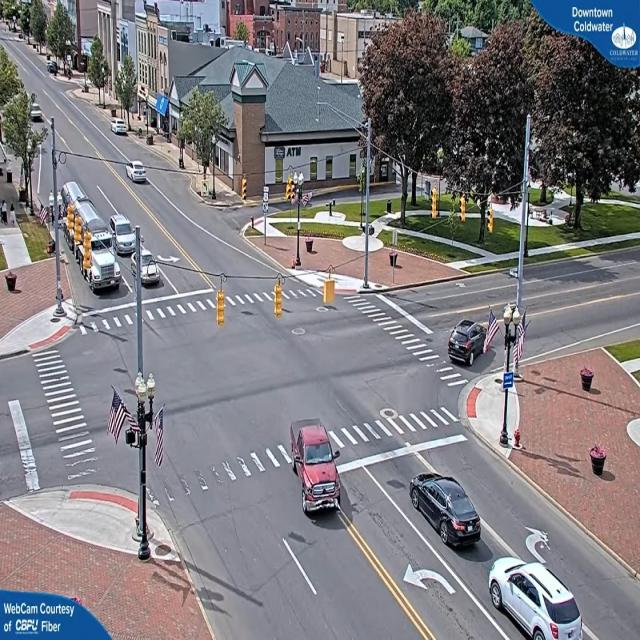car: (490, 561, 588, 640), (409, 476, 482, 551), (448, 320, 490, 366), (110, 216, 141, 256), (142, 256, 162, 286), (126, 163, 150, 184), (112, 120, 129, 136)
truck: (292, 420, 341, 513), (83, 242, 121, 293)
